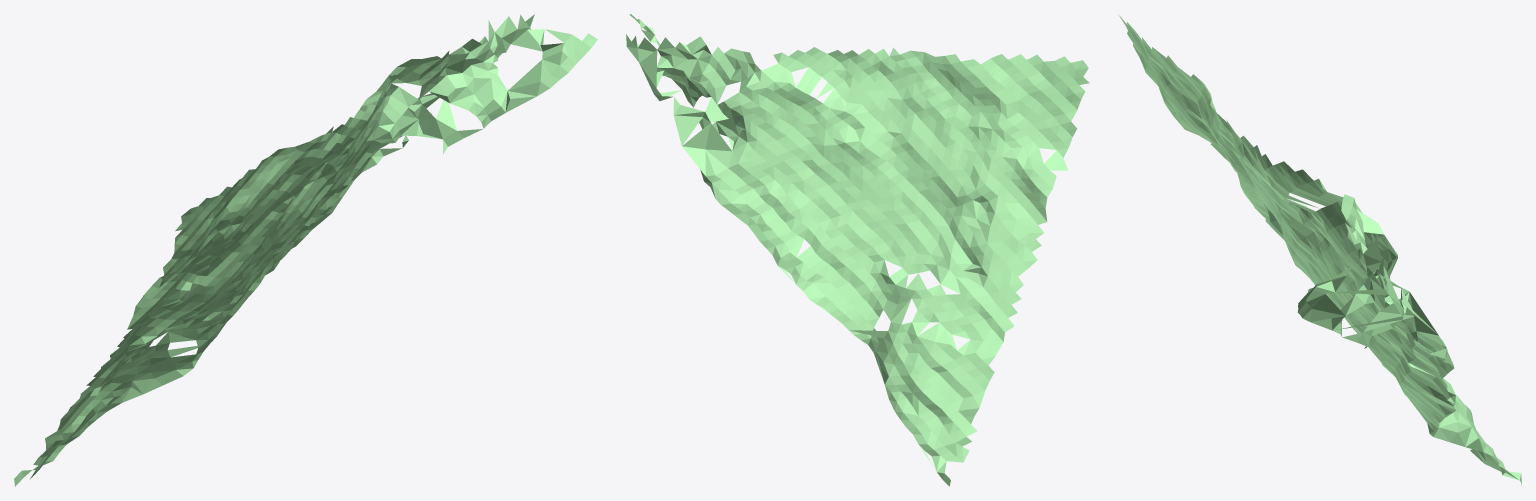
The model's file is tile_1.glb.
The picture shows the model from 3 angles, left to right: view 1: azimuth 30°, elevation 25°; view 2: azimuth 150°, elevation 25°; view 3: azimuth 270°, elevation 25°; orthographic projection. The views are drawn at different scales.
Size of the model in its own units: 20.56 by 16.17 by 12.15.
